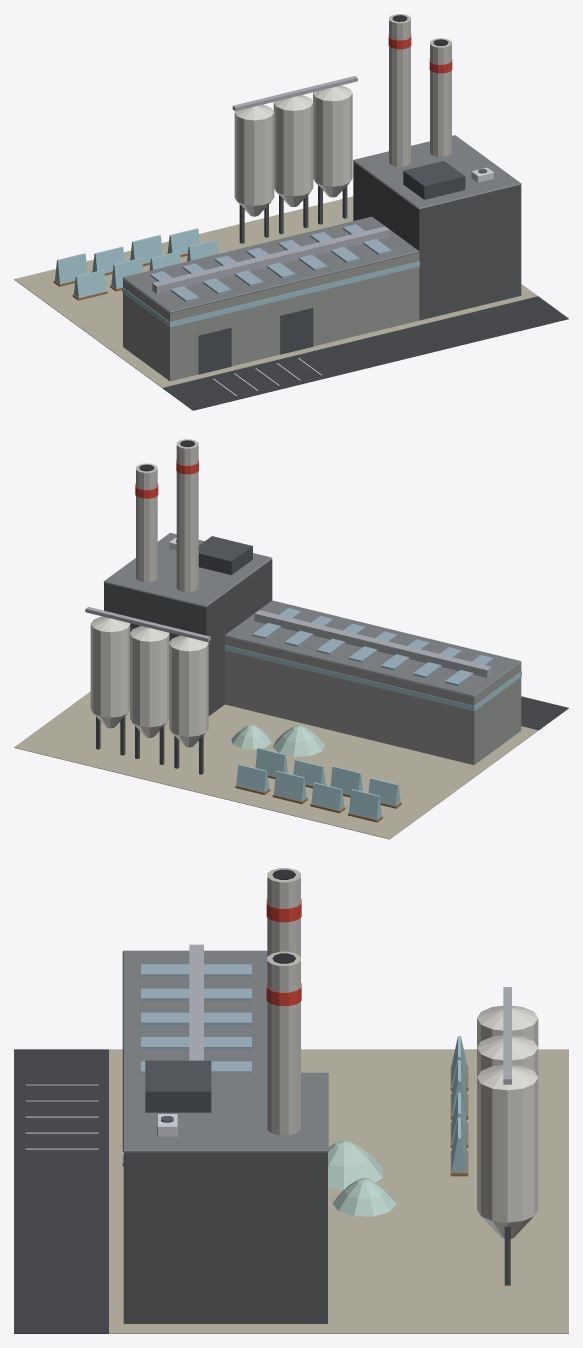
Rendered from glassworks.glb.
The picture shows the model from 3 angles, top to bottom: view 1: azimuth 30°, elevation 25°; view 2: azimuth 150°, elevation 25°; view 3: azimuth 270°, elevation 25°; orthographic projection. The views are drawn at different scales.
Parts seen in each view (by area): view 1: glassworks; view 2: glassworks; view 3: glassworks.
Boxes of the visible parts, x1,y1,x2,y2 form: glassworks: [14, 14, 568, 410]; glassworks: [14, 439, 568, 839]; glassworks: [14, 868, 568, 1333].
Bounding box in the file's own units: 46 × 30.06 × 38.
